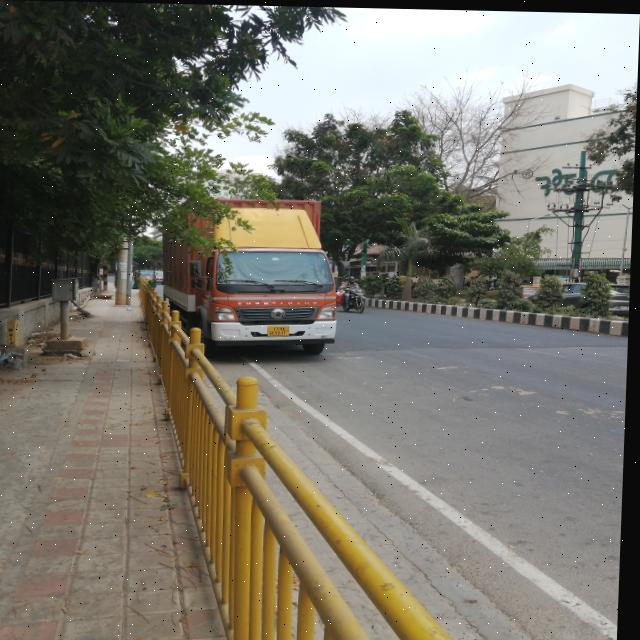plate: (270, 324, 292, 336), (622, 303, 632, 307), (357, 294, 367, 296)
